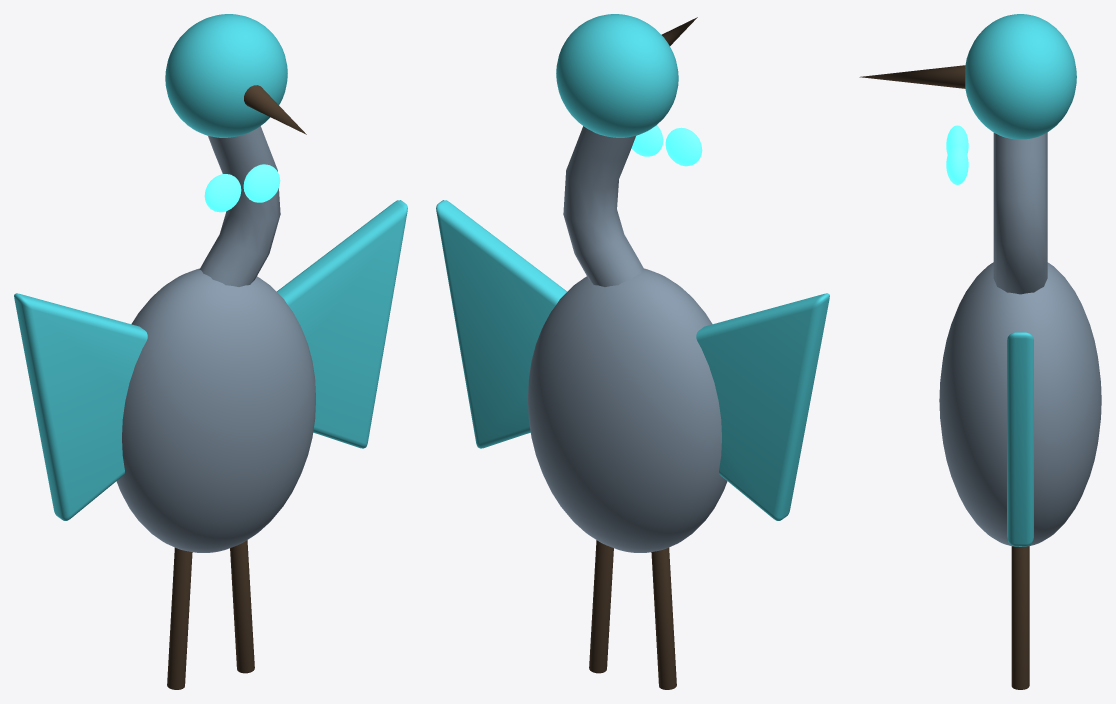
Rendered from avian_v5.glb.
3 renders of one model, left to right at view 1: azimuth 30°, elevation 25°; view 2: azimuth 150°, elevation 25°; view 3: azimuth 270°, elevation 25°, orthographic.
Parts seen in each view (by area): view 1: CRANE_BODY_PRIMARY, CRANE_WING_ACCENT, CRANE_WING_ACCENT.001, CRANE_HEAD_ACCENT, CRANE_NECK_PRIMARY, CRANE_LEG_SECONDARY, CRANE_LEG_SECONDARY.001, EYE_EMISSIVE.001, EYE_EMISSIVE, CRANE_BEAK_SECONDARY; view 2: CRANE_BODY_PRIMARY, CRANE_WING_ACCENT, CRANE_WING_ACCENT.001, CRANE_HEAD_ACCENT, CRANE_NECK_PRIMARY, CRANE_LEG_SECONDARY, CRANE_LEG_SECONDARY.001, EYE_EMISSIVE, EYE_EMISSIVE.001; view 3: CRANE_BODY_PRIMARY, CRANE_HEAD_ACCENT, CRANE_NECK_PRIMARY, CRANE_WING_ACCENT.001, CRANE_LEG_SECONDARY.001, CRANE_BEAK_SECONDARY, EYE_EMISSIVE.001, EYE_EMISSIVE.
Part boxes in pixels (x1,y1,x2,y2): CRANE_BODY_PRIMARY: (116, 268, 315, 552); CRANE_WING_ACCENT: (14, 293, 147, 520); CRANE_WING_ACCENT.001: (276, 200, 407, 448); CRANE_HEAD_ACCENT: (165, 14, 287, 137); CRANE_NECK_PRIMARY: (199, 126, 280, 286); CRANE_LEG_SECONDARY: (167, 547, 192, 689); CRANE_LEG_SECONDARY.001: (230, 540, 254, 673); EYE_EMISSIVE.001: (243, 164, 280, 202); EYE_EMISSIVE: (204, 174, 241, 212); CRANE_BEAK_SECONDARY: (244, 85, 306, 134); CRANE_BODY_PRIMARY: (528, 268, 727, 552); CRANE_WING_ACCENT: (696, 293, 829, 520); CRANE_WING_ACCENT.001: (436, 200, 567, 448); CRANE_HEAD_ACCENT: (556, 14, 678, 137); CRANE_NECK_PRIMARY: (563, 126, 644, 286); CRANE_LEG_SECONDARY: (651, 547, 676, 689); CRANE_LEG_SECONDARY.001: (589, 540, 613, 673); EYE_EMISSIVE: (665, 127, 702, 166); EYE_EMISSIVE.001: (631, 125, 663, 156); CRANE_BODY_PRIMARY: (939, 262, 1101, 546); CRANE_HEAD_ACCENT: (965, 14, 1076, 139); CRANE_NECK_PRIMARY: (993, 132, 1047, 294); CRANE_WING_ACCENT.001: (1007, 332, 1033, 546); CRANE_LEG_SECONDARY.001: (1011, 546, 1029, 689); CRANE_BEAK_SECONDARY: (859, 65, 965, 88); EYE_EMISSIVE.001: (946, 144, 968, 184); EYE_EMISSIVE: (946, 125, 968, 154).
Bounding box in the file's own units: 1.99 × 3.22 × 1.08.
